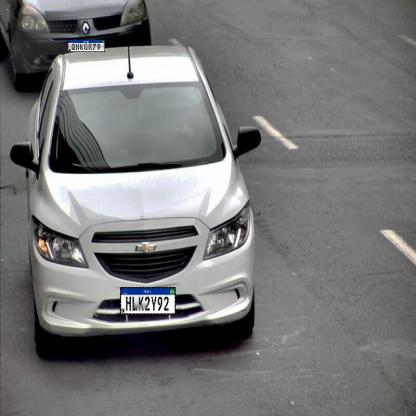PlacaM: (120, 287, 176, 315), (68, 40, 105, 52)
